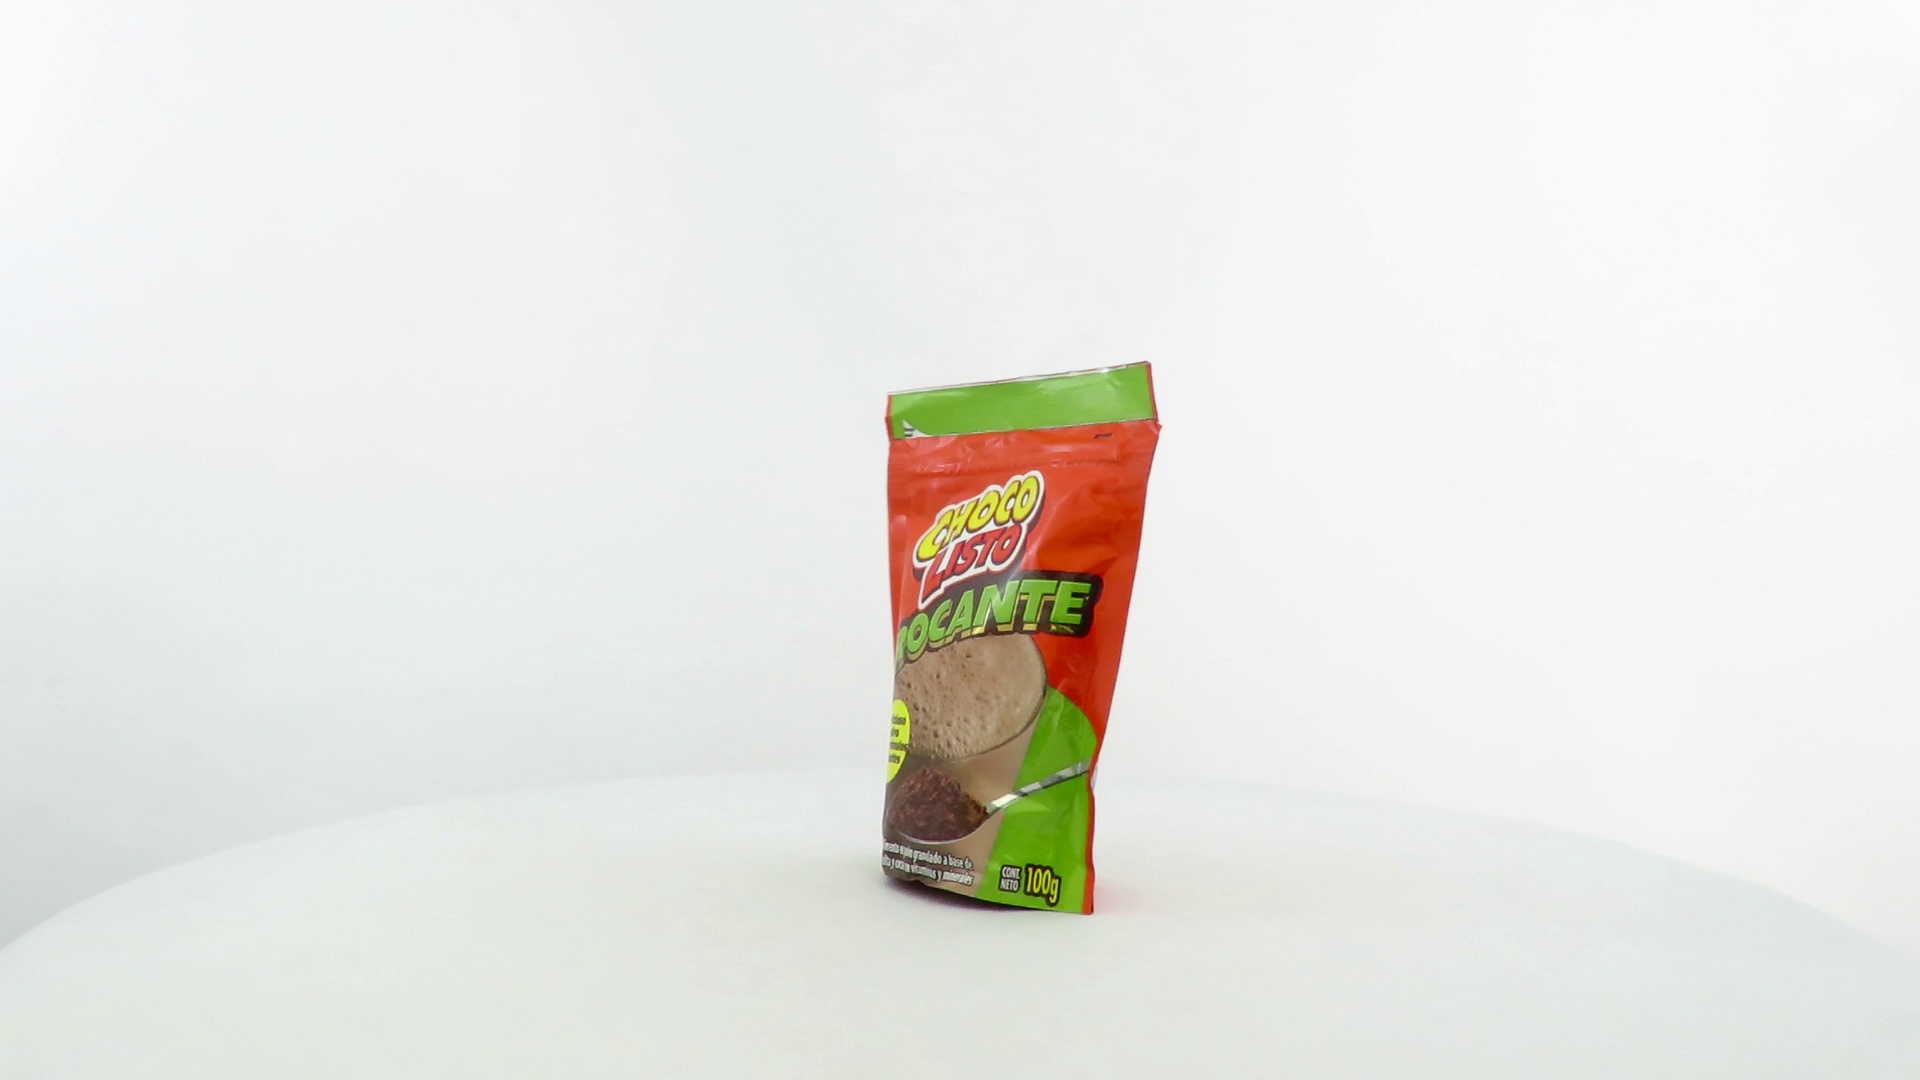COL0170102DYP10000: (876, 355, 1168, 922)
